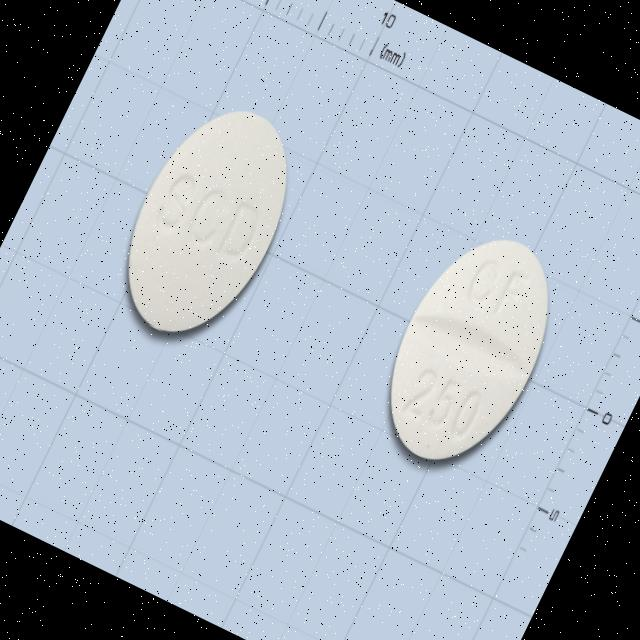Cf: (88, 78, 326, 364), (353, 208, 585, 490)
